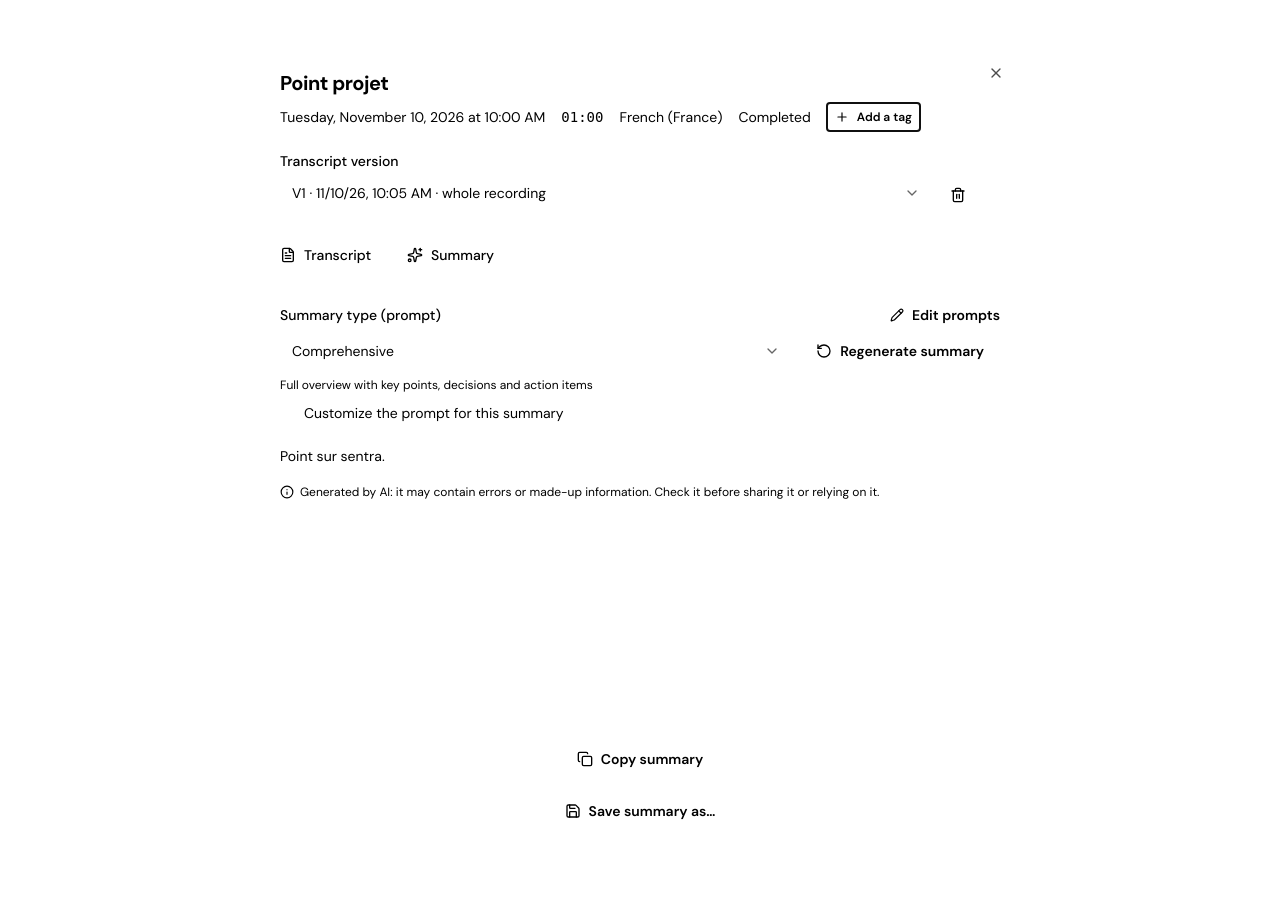
MeetingDetailModal — lexiques › corrige la transcription et le résumé de la version affichée
Click the tab "Transcript" at (326, 255), box left=264, top=229, right=387, bottom=281
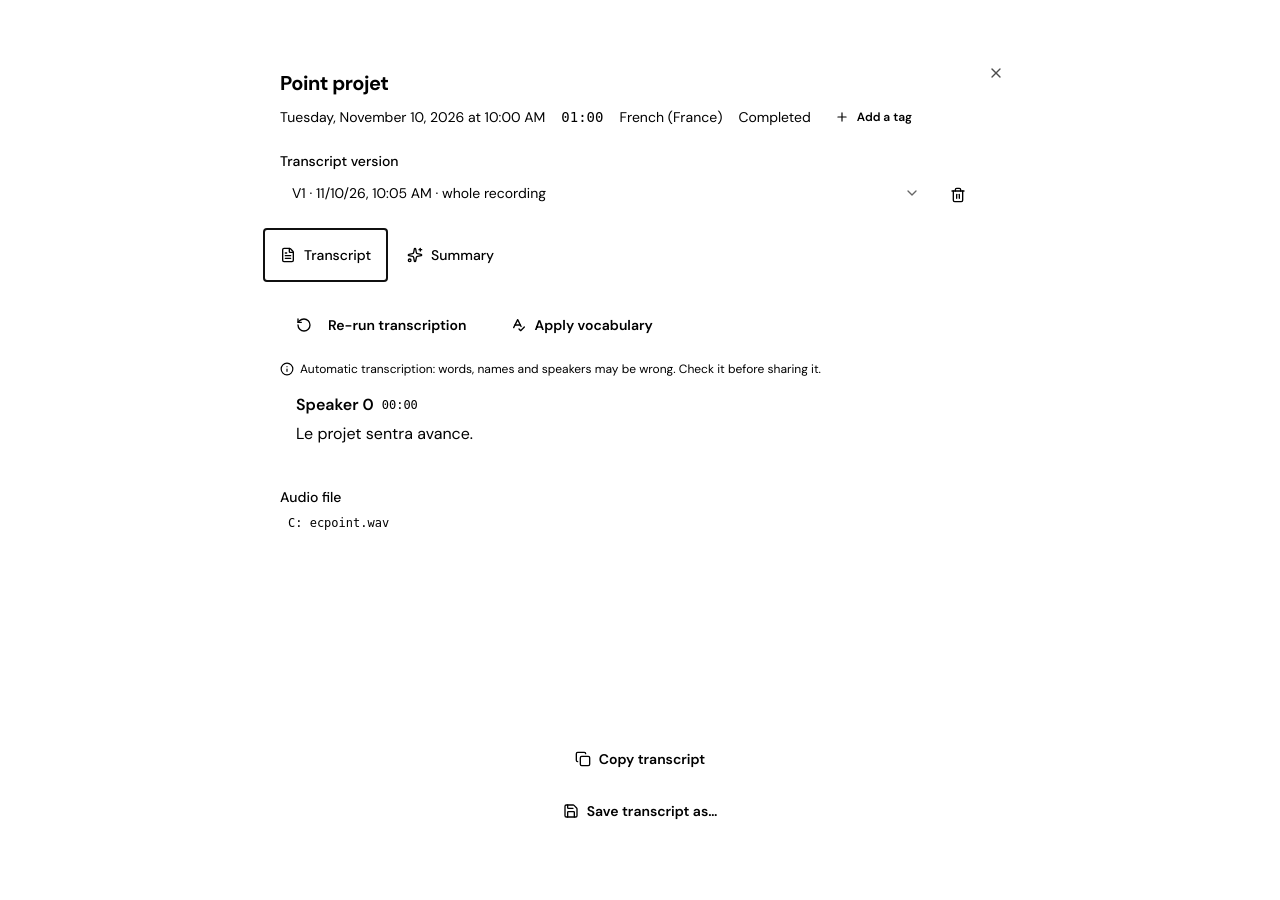
Click the button "Apply vocabulary" at (582, 325), box left=494, top=305, right=669, bottom=345
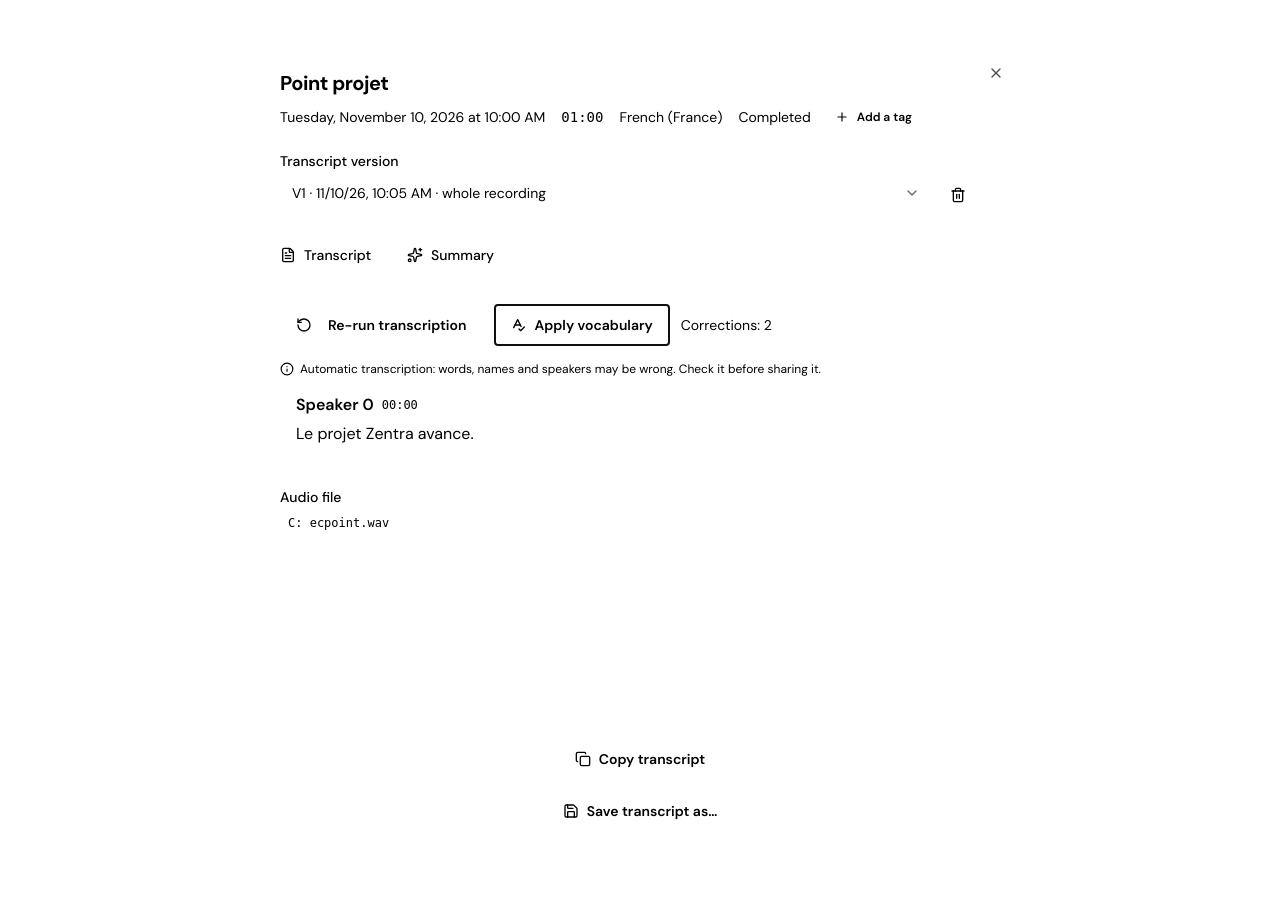
Check: the message reads "Corrections: 2", box left=681, top=316, right=772, bottom=334
Check: the text "Le projet Zentra avance." is shown, box left=296, top=423, right=474, bottom=444
